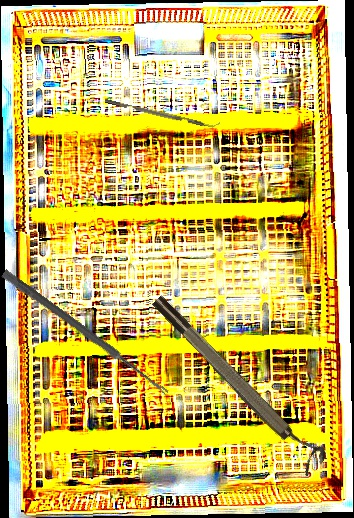Chopper: (104, 93, 221, 132)
Fixation Ring: (149, 285, 330, 477)
Surgical Spoon: (0, 269, 171, 397)
